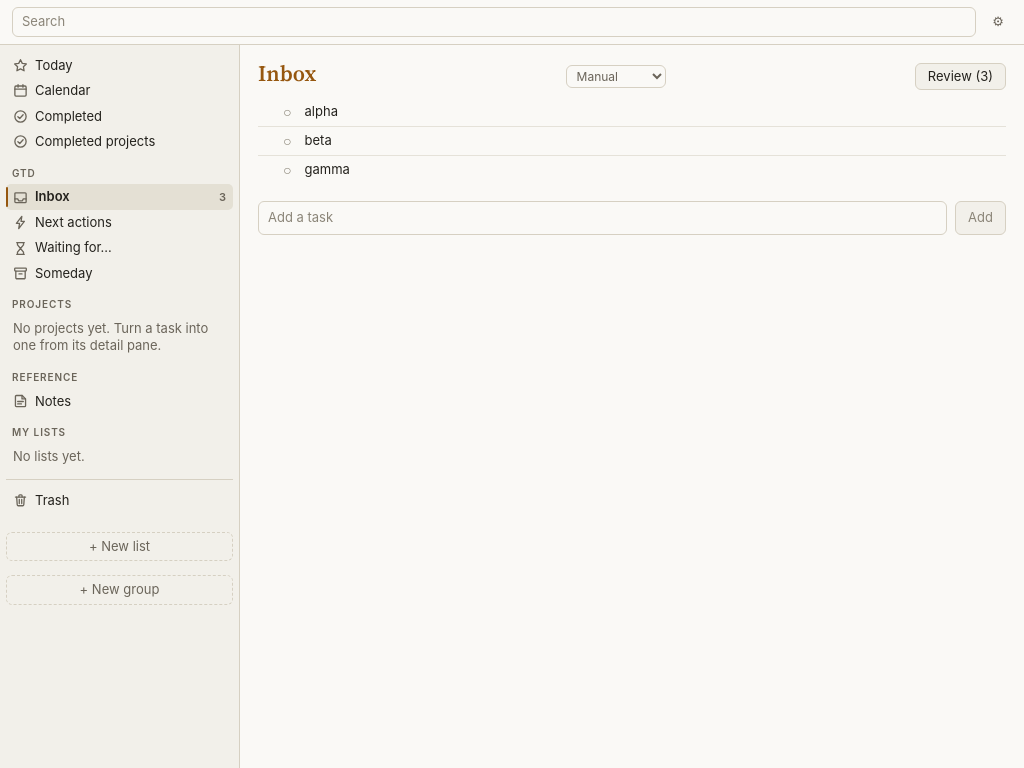
Test case: The Review entry point › doesNotAppearOnOtherLists
Check: the button "Review (3)" is shown, box [915, 62, 1006, 90]
Click the button "Notes" at (120, 401), box [6, 388, 233, 414]
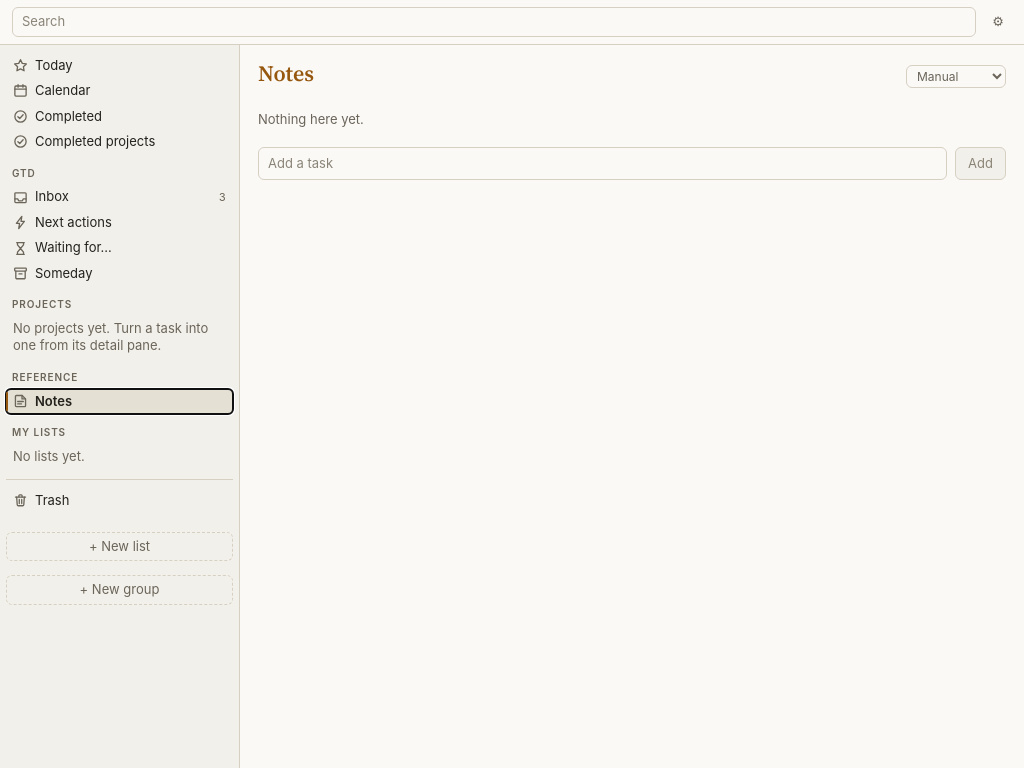
Check: the button "Review" is gone
